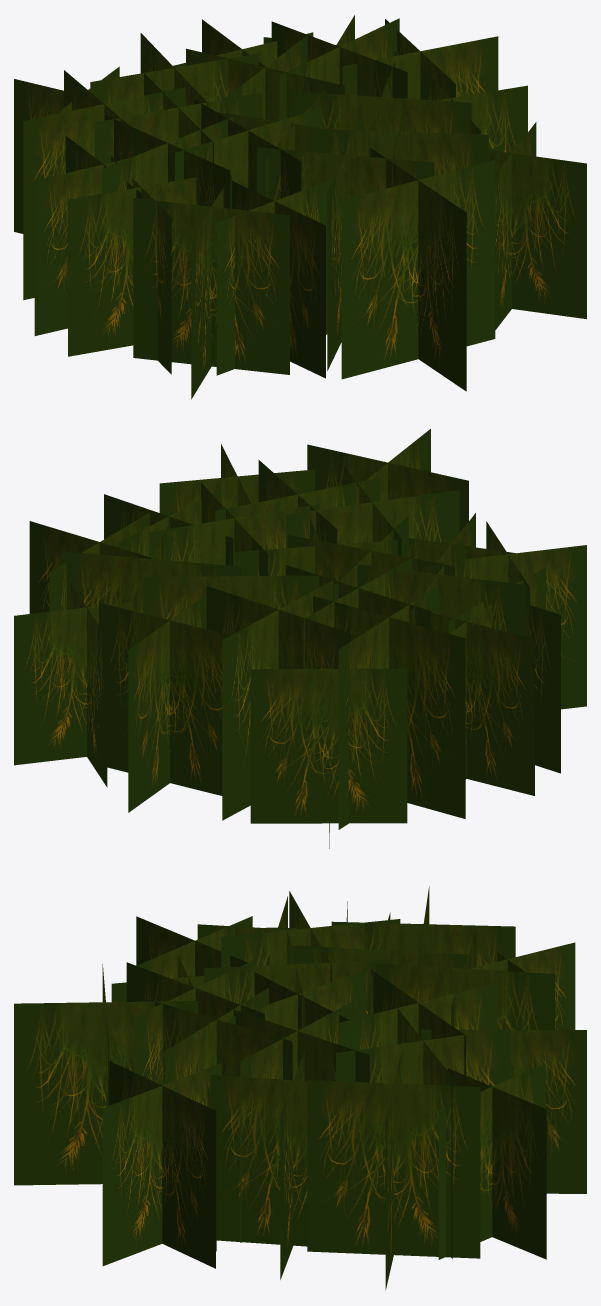
File: INST_TROLLHOLE_GRASSPLANTS-CLUMP.obj
3 renders of one model, top to bottom at view 1: azimuth 30°, elevation 25°; view 2: azimuth 150°, elevation 25°; view 3: azimuth 270°, elevation 25°, orthographic.
Parts seen in each view (by area): view 1: s-clump_Lod1_01; view 2: s-clump_Lod1_01; view 3: s-clump_Lod1_01.
Boxes of the visible parts, <box> form: s-clump_Lod1_01: <box>14,15,586,399</box>; s-clump_Lod1_01: <box>14,429,586,848</box>; s-clump_Lod1_01: <box>14,886,586,1290</box>.
Size of the model in its own units: 275 by 97.6 by 279.
